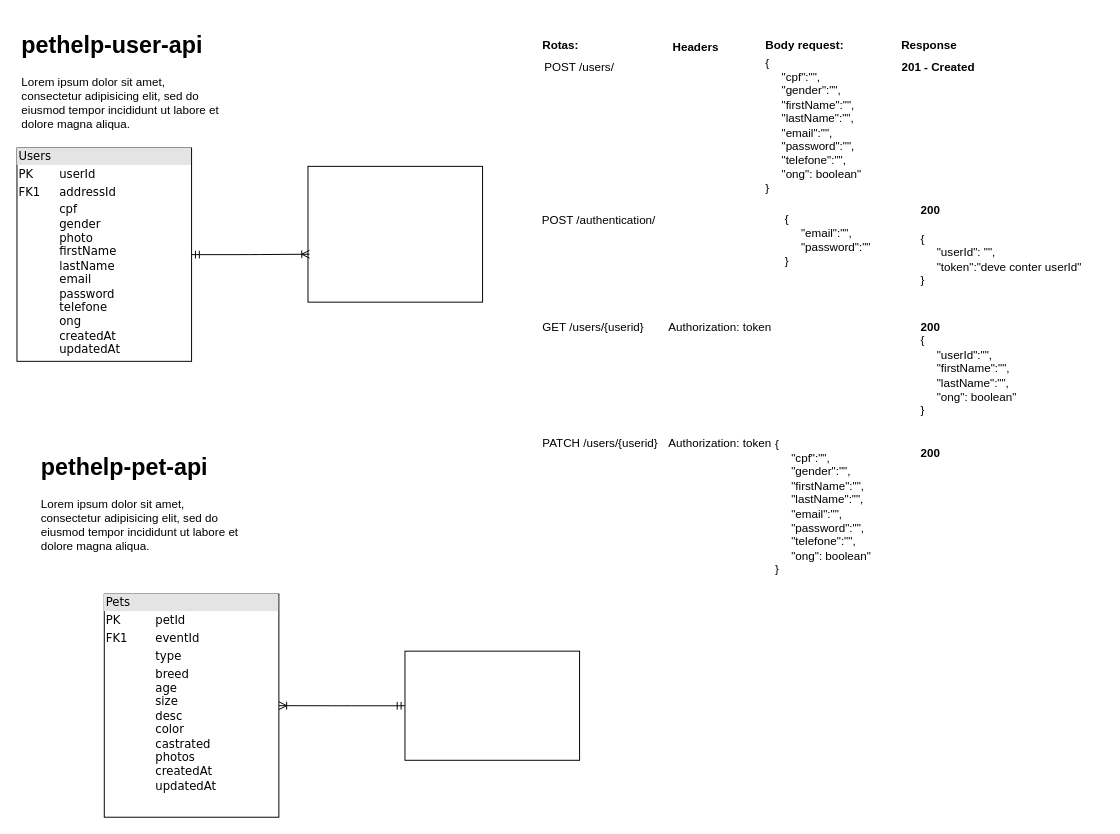
This 1120x834 diagram has some shape labels left out. Here are the shapes that lost their labels. From the top down, the box of each, then its label:
(307, 165, 483, 302): Addresses PK addressId FK1 number neighborhood city country postalCode
(404, 650, 580, 760): Events PK eventId FK1 petId status phone createdAt
